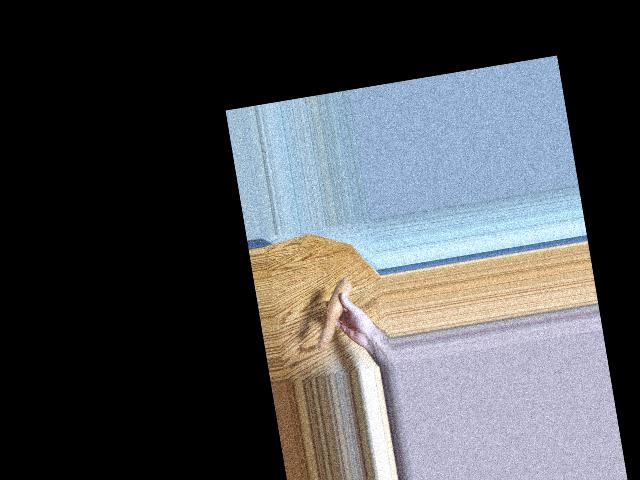sweet_potato: (311, 270, 359, 349)
